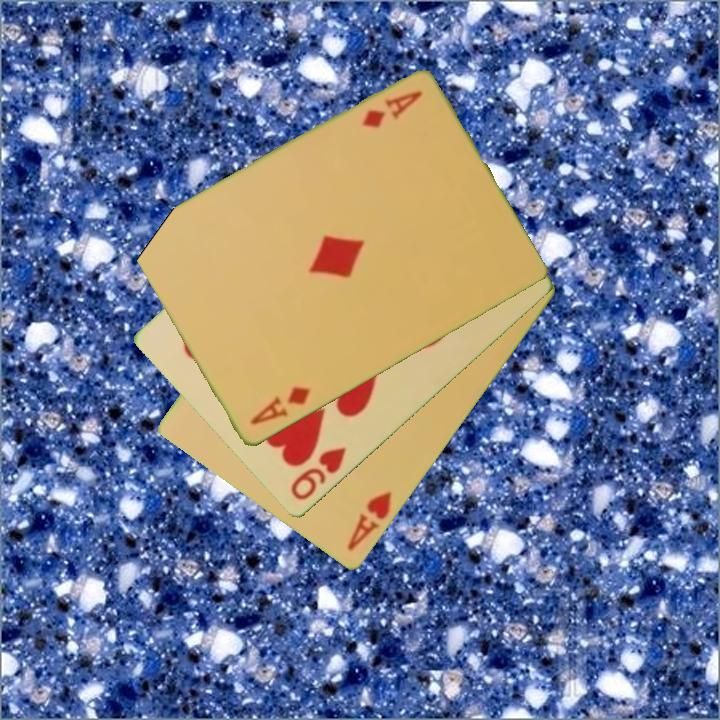9h: (287, 444, 350, 504)
Ad: (246, 383, 313, 429), (357, 87, 425, 132)
Ah: (344, 489, 395, 554)
